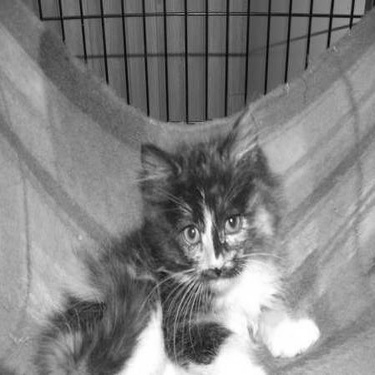cat: (18, 135, 322, 368)
